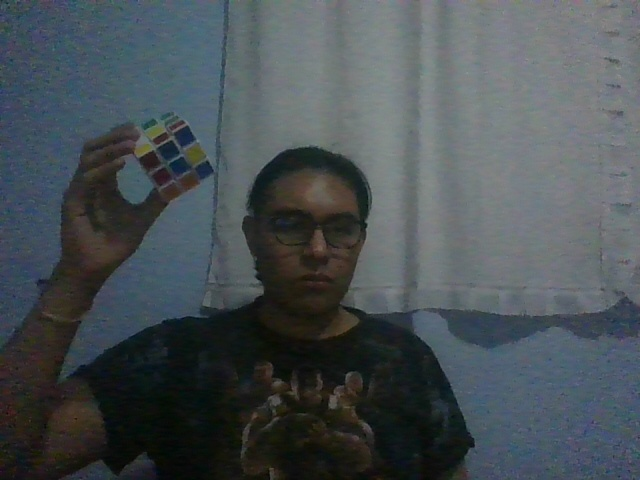rubik: (132, 110, 215, 203)
